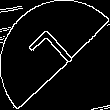L_SE: (27, 26, 83, 84)
